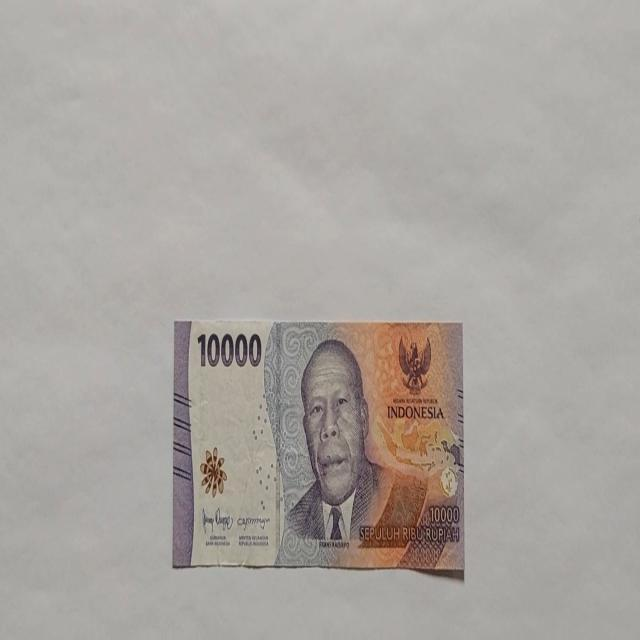sepuluh ribu rupiah: (172, 316, 465, 574)
